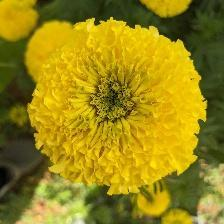marigold: (29, 22, 211, 194)
